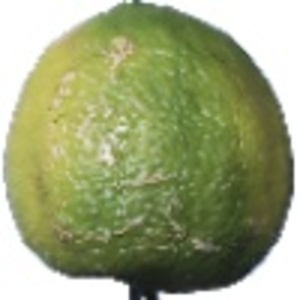limão: (4, 1, 295, 300)
